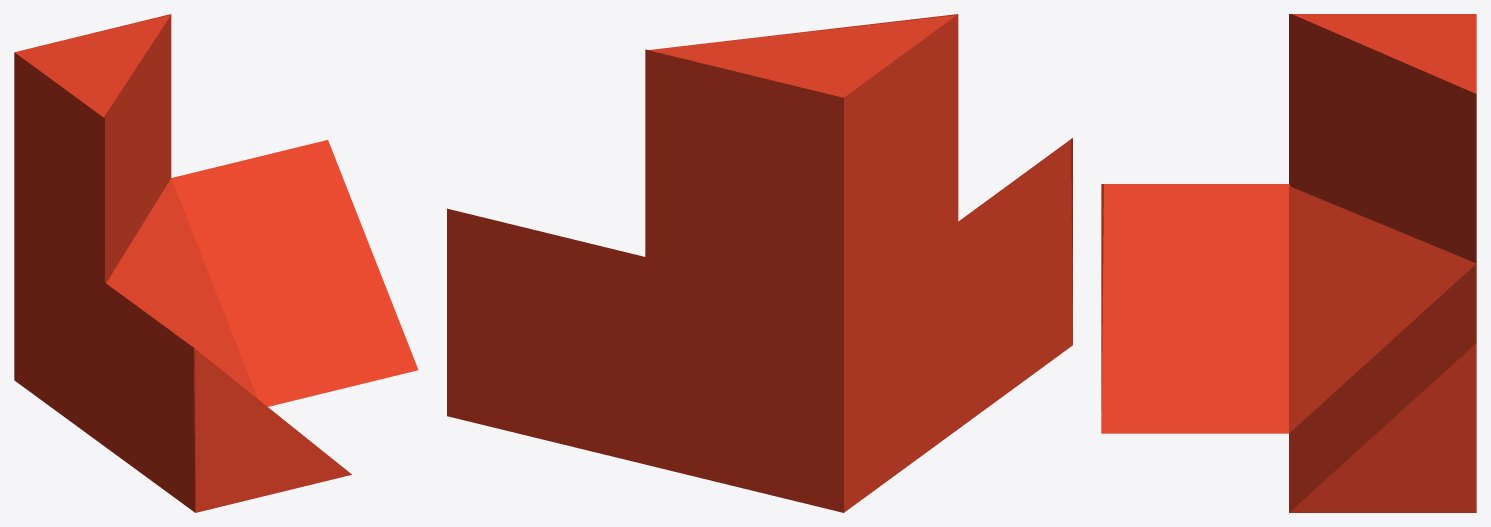
The model's file is r5c5_body_red.gltf.
The picture shows the model from 3 angles, left to right: view 1: azimuth 30°, elevation 25°; view 2: azimuth 150°, elevation 25°; view 3: azimuth 270°, elevation 25°; orthographic projection. The views are drawn at different scales.
Visible parts, largest first — view 1: r5c5_body_red; view 2: r5c5_body_red; view 3: r5c5_body_red.
Boxes of the visible parts, left/top/right/bottom form: r5c5_body_red: left=14, top=14, right=418, bottom=512; r5c5_body_red: left=447, top=14, right=1072, bottom=512; r5c5_body_red: left=1101, top=14, right=1476, bottom=512.
Size of what is drawn, in the model's own units: 2 by 2 by 2.
1 material, 1 textured.
